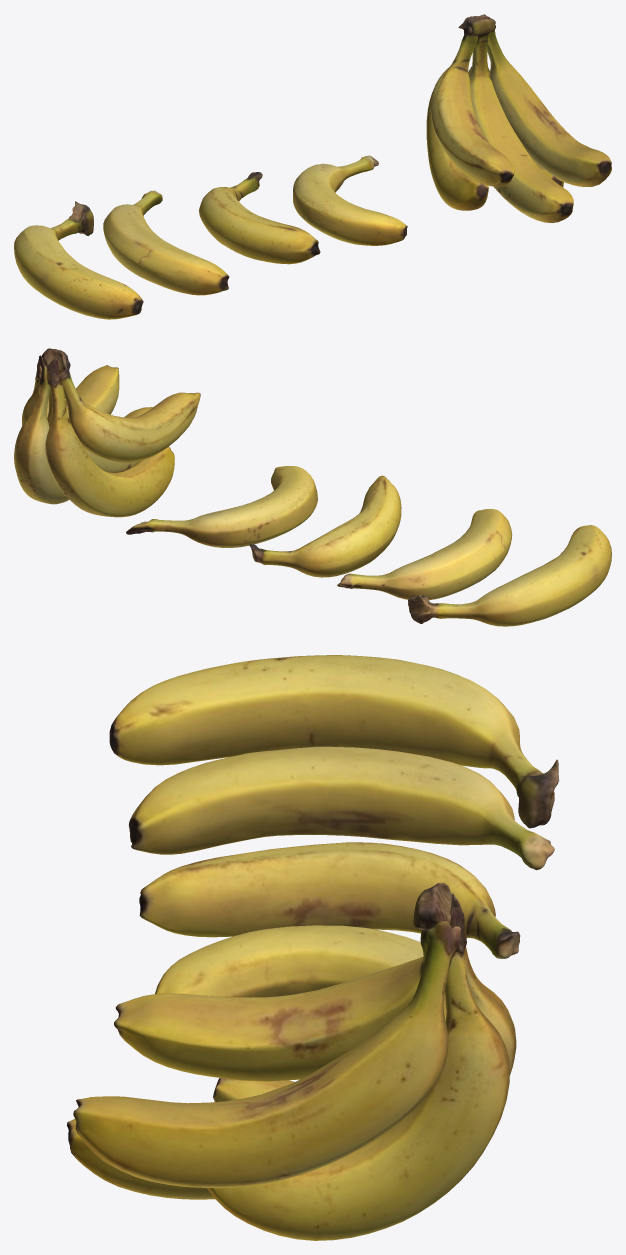
Rendered from bananas.glb.
The picture shows the model from 3 angles, top to bottom: view 1: azimuth 30°, elevation 25°; view 2: azimuth 150°, elevation 25°; view 3: azimuth 270°, elevation 25°; orthographic projection. The views are drawn at different scales.
Visible parts, largest first — view 1: bananas_bunch, bananas_d, bananas_c, bananas_a, bananas_b; view 2: bananas_bunch, bananas_d, bananas_c, bananas_a, bananas_b; view 3: bananas_bunch, bananas_d, bananas_c, bananas_b, bananas_a.
Boxes of the visible parts, left/top/right/bottom form: bananas_bunch: left=426, top=14, right=611, bottom=222; bananas_d: left=14, top=201, right=143, bottom=319; bananas_c: left=103, top=190, right=229, bottom=295; bananas_a: left=293, top=155, right=407, bottom=245; bananas_b: left=199, top=172, right=320, bottom=264; bananas_bunch: left=14, top=348, right=200, bottom=517; bananas_d: left=408, top=525, right=611, bottom=626; bananas_c: left=337, top=509, right=512, bottom=600; bananas_a: left=126, top=466, right=317, bottom=547; bananas_b: left=249, top=475, right=401, bottom=577; bananas_bunch: left=67, top=883, right=516, bottom=1240; bananas_d: left=109, top=655, right=559, bottom=828; bananas_c: left=129, top=746, right=554, bottom=870; bananas_b: left=139, top=842, right=520, bottom=958; bananas_a: left=155, top=925, right=423, bottom=997.
Size of the model in its own units: 0.6 by 0.1788 by 0.244.
1 material, 1 textured.
